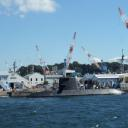submarine: (29, 77, 128, 94)
